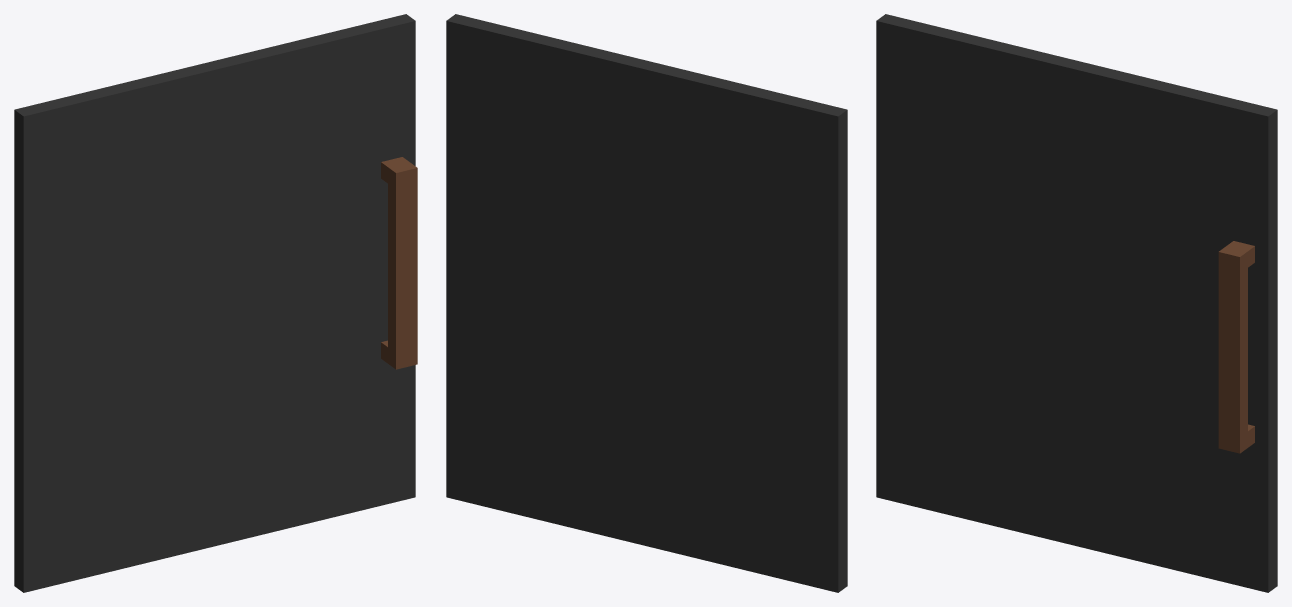
Rendered from shelf_door.glb.
The picture shows the model from 3 angles, left to right: view 1: azimuth 30°, elevation 25°; view 2: azimuth 150°, elevation 25°; view 3: azimuth 330°, elevation 25°; orthographic projection.
Parts seen in each view (by area): view 1: Expositor Door 2; view 2: Expositor Door 2; view 3: Expositor Door 2.
Boxes of the visible parts, box(x1,y1,x2,y2) form: Expositor Door 2: box(14, 14, 417, 592); Expositor Door 2: box(446, 14, 847, 592); Expositor Door 2: box(876, 14, 1277, 592).
Bounding box in the file's own units: 0.662 × 0.7689 × 0.0716.
Materials: 1 (1 with a texture image).
